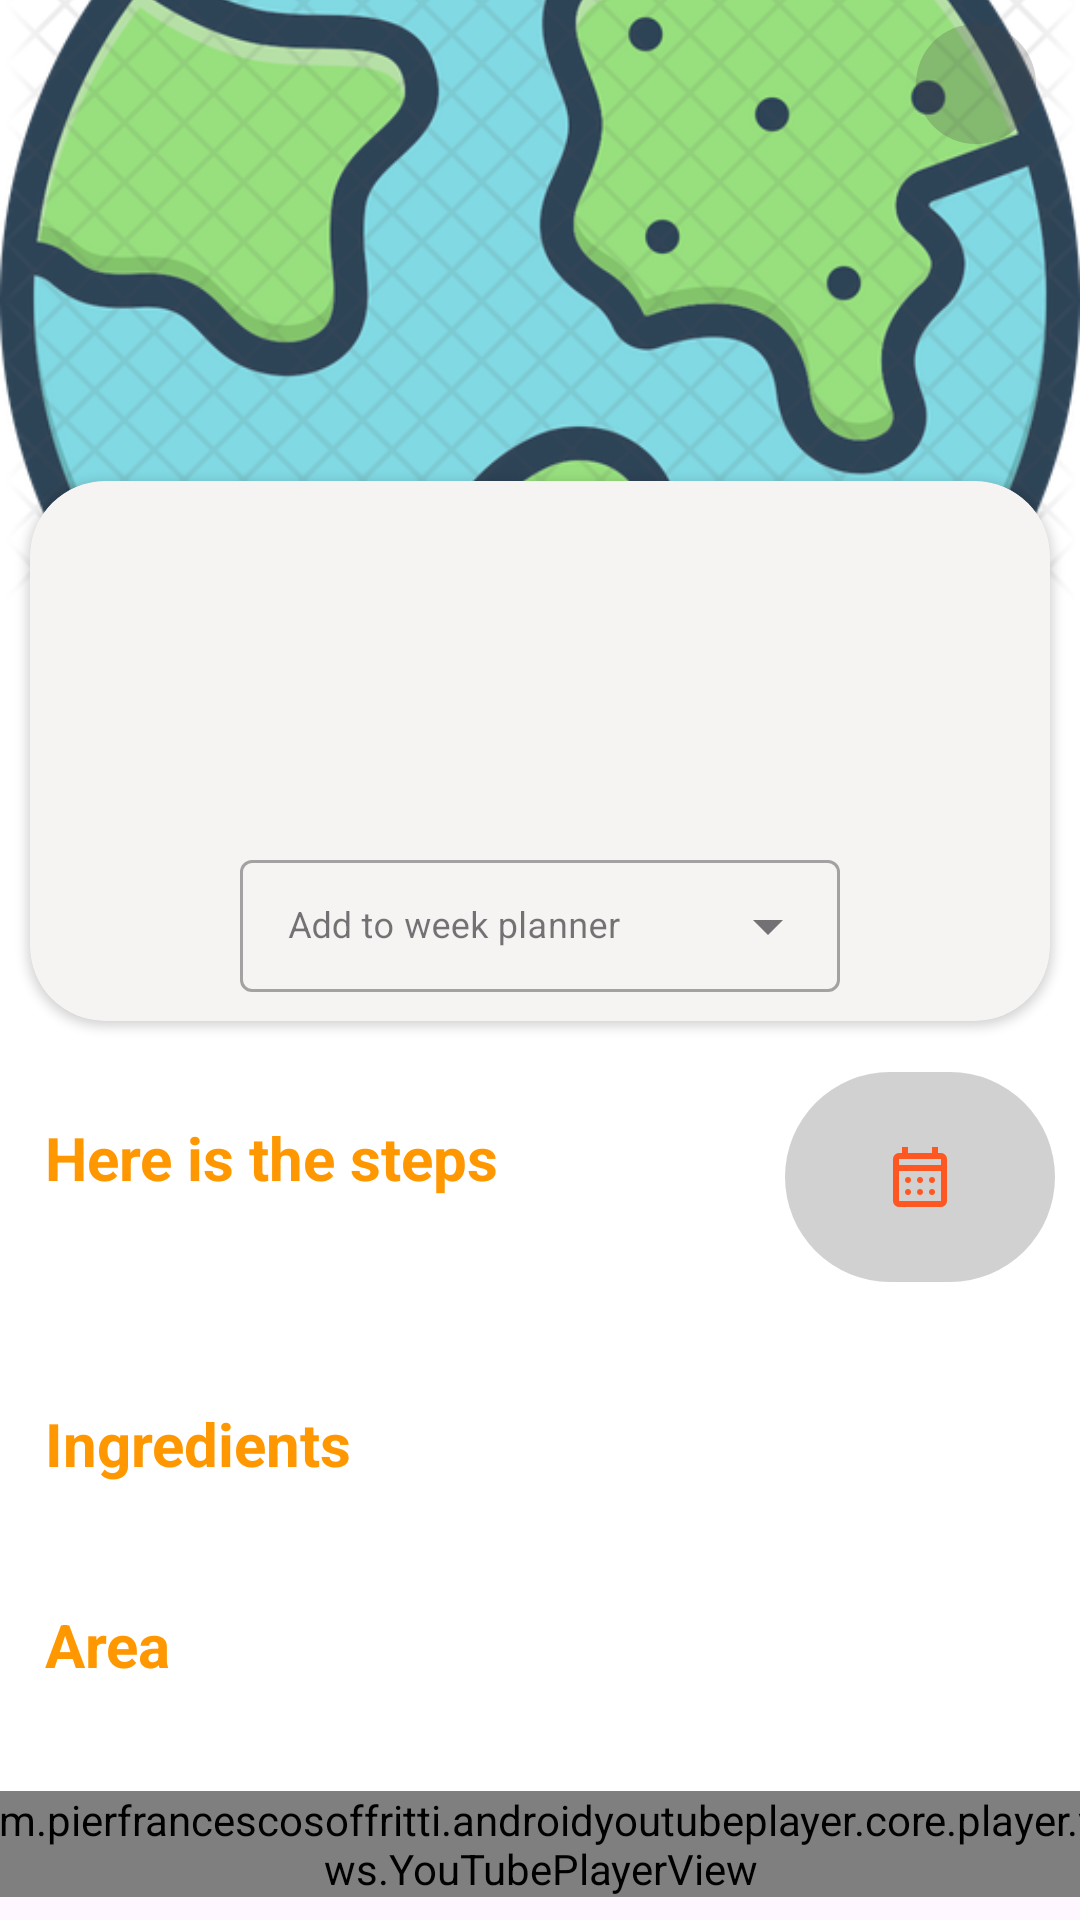

Icons on this 1080w x 1920h Android screen, each with the point to tap as (x,y):
calendar: (920,1177)
